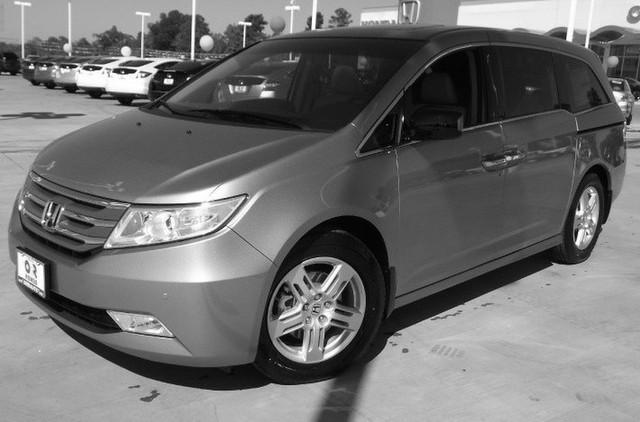car: (5, 23, 629, 389)
